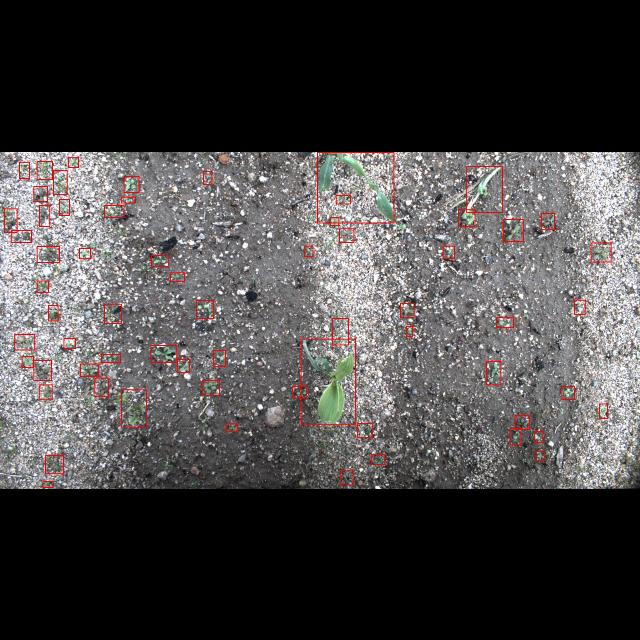crop: (318, 152, 394, 222), (301, 338, 355, 424)
weed: (467, 164, 503, 212), (122, 389, 146, 426), (151, 344, 177, 362), (503, 219, 523, 241), (332, 318, 348, 344), (591, 242, 611, 262), (36, 246, 59, 262), (34, 360, 52, 380), (105, 303, 122, 323), (53, 169, 67, 193), (486, 360, 500, 384), (196, 300, 214, 318), (45, 455, 63, 473), (15, 333, 35, 349), (5, 208, 18, 232), (37, 160, 53, 178), (459, 208, 475, 226), (202, 380, 220, 394), (95, 378, 109, 396), (39, 204, 50, 226), (11, 230, 31, 242), (104, 204, 124, 216), (124, 176, 138, 192), (358, 422, 372, 438), (514, 415, 530, 429), (80, 363, 98, 375), (340, 228, 354, 242), (34, 186, 48, 200), (400, 303, 414, 317), (152, 254, 168, 266), (40, 384, 52, 400), (213, 350, 225, 366), (542, 213, 554, 229), (574, 298, 586, 314), (341, 470, 354, 484), (19, 160, 29, 178), (496, 317, 514, 327), (177, 358, 189, 372), (292, 386, 306, 398), (102, 353, 120, 362), (48, 304, 58, 320), (59, 198, 69, 214), (510, 428, 520, 444), (562, 386, 574, 399), (371, 454, 385, 464), (22, 357, 34, 368), (336, 194, 350, 203), (38, 280, 48, 292), (444, 245, 454, 257), (170, 272, 184, 280), (599, 404, 607, 418), (68, 156, 78, 167), (204, 170, 212, 183), (64, 338, 74, 348), (80, 248, 90, 258), (305, 244, 313, 256), (226, 423, 237, 431), (121, 196, 135, 202), (534, 432, 542, 442), (329, 216, 338, 224), (536, 452, 544, 461), (43, 481, 53, 487), (406, 326, 412, 336)
